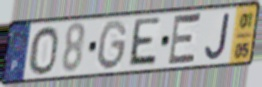8: (60, 21, 87, 76)
E: (166, 11, 204, 68), (126, 16, 162, 68)
G: (97, 19, 129, 72)
J: (204, 11, 232, 62)
O: (28, 25, 60, 77)
